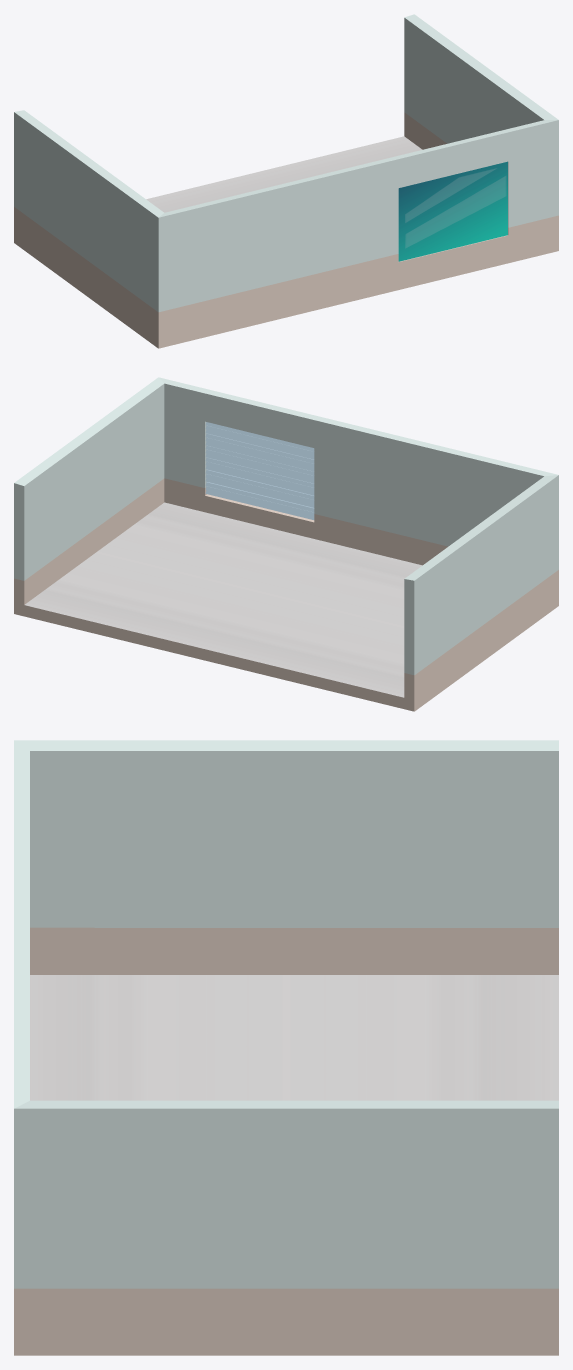
Rendered from New_Platform.fbx.
The picture shows the model from 3 angles, top to bottom: view 1: azimuth 30°, elevation 25°; view 2: azimuth 150°, elevation 25°; view 3: azimuth 270°, elevation 25°; orthographic projection. The views are drawn at different scales.
Parts seen in each view (by area): view 1: pCube36, pCube37; view 2: pCube36; view 3: pCube36.
Part boxes in pixels (box(x1,y1,x2,y2)): pCube36: box(14, 14, 558, 348); pCube37: box(398, 161, 507, 261); pCube36: box(14, 377, 558, 711); pCube36: box(14, 740, 558, 1355).
Bounding box in the file's own units: 3200 × 1000 × 2000.
Materials: 3 (3 with a texture image).
